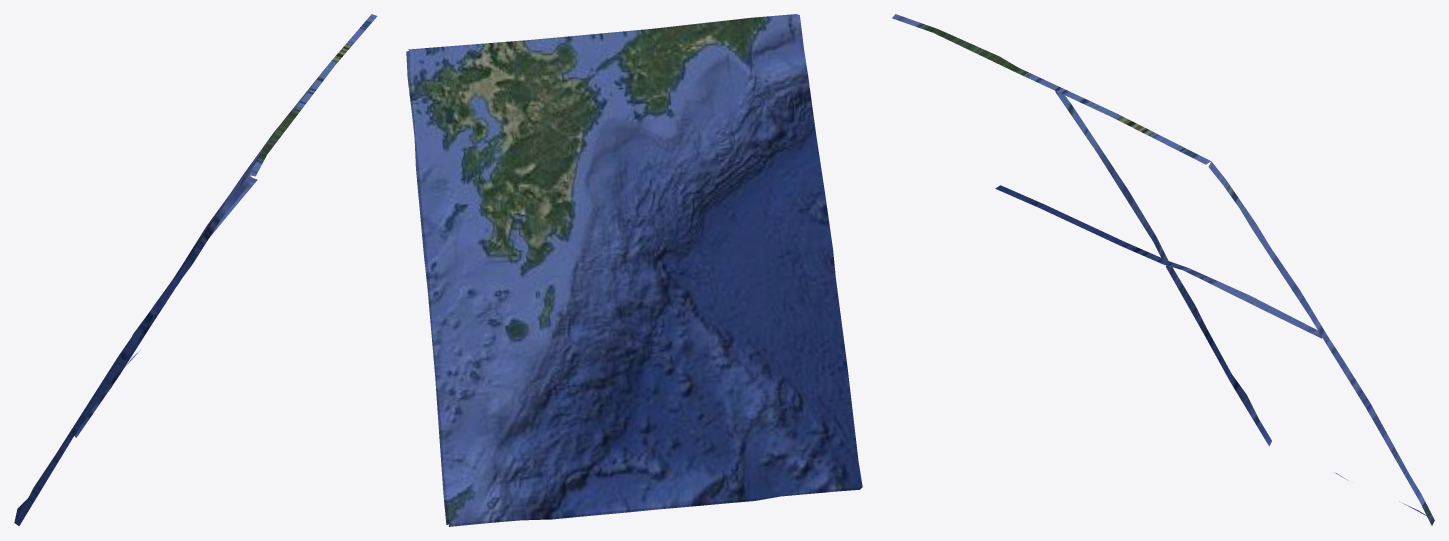
3 renders of one model, left to right at view 1: azimuth 30°, elevation 25°; view 2: azimuth 150°, elevation 25°; view 3: azimuth 270°, elevation 25°, orthographic. The views are drawn at different scales.
Size of the model in its own units: 618729 by 548019 by 605168.
Materials: 1 (1 with a texture image).
